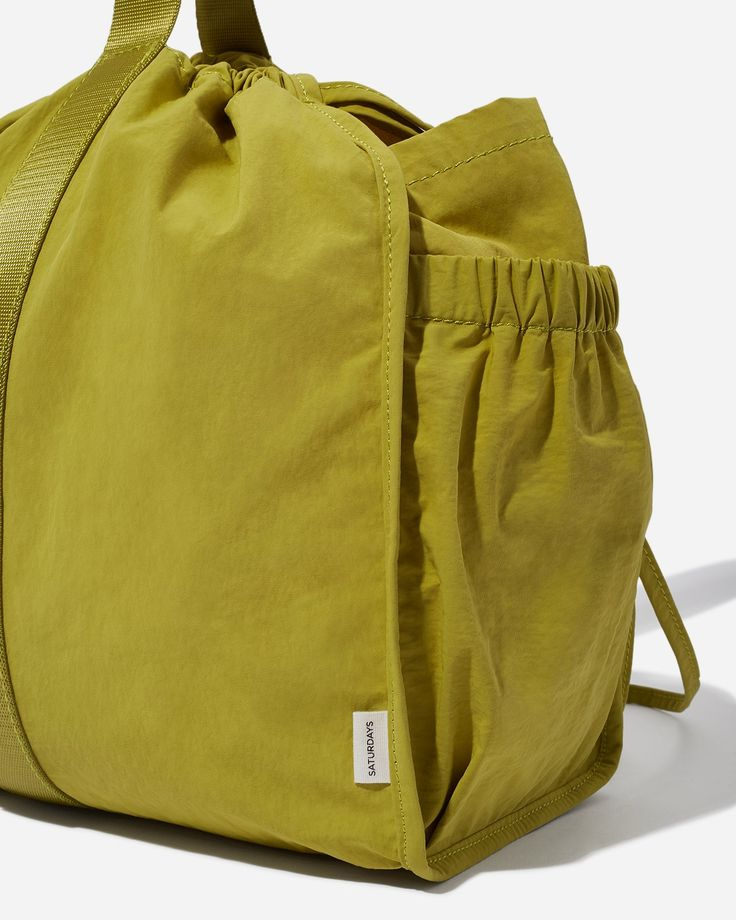nylon: (3, 47, 655, 884)
